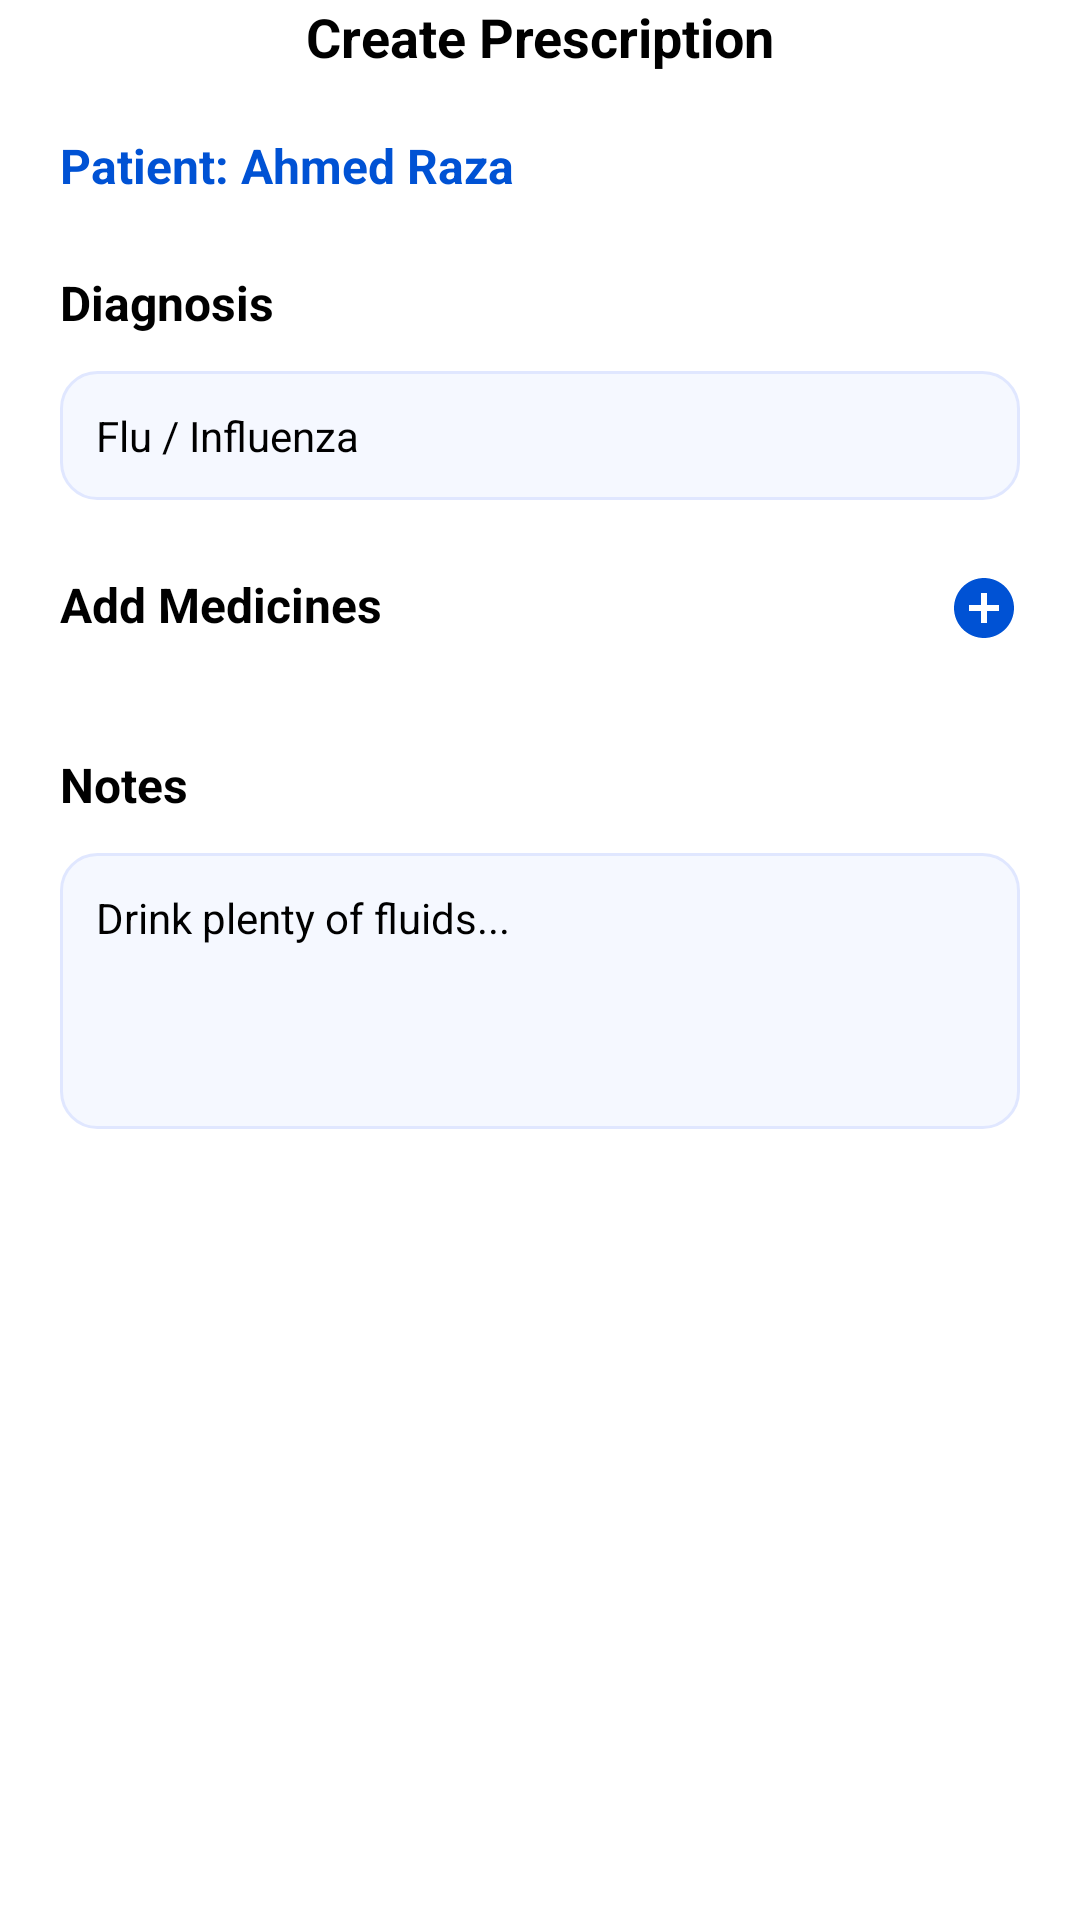

Icon bounding boxes for this 1080w x 1920h phone screenshot, format (x1, y1, x2, y2):
add circle: (954, 578, 1014, 638)
